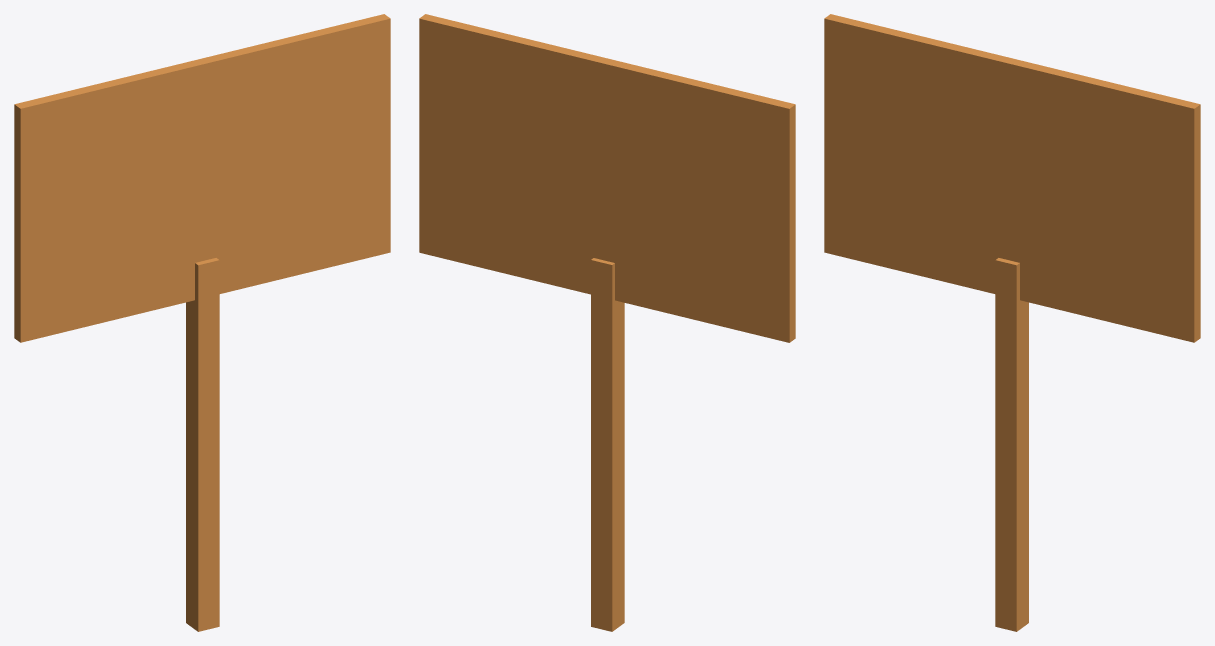
The model's file is signpost.fbx.
The picture shows the model from 3 angles, left to right: view 1: azimuth 30°, elevation 25°; view 2: azimuth 150°, elevation 25°; view 3: azimuth 330°, elevation 25°; orthographic projection.
Visible parts, largest first — view 1: Plane, Cube; view 2: Plane, Cube; view 3: Plane, Cube.
Part boxes in pixels (x1,y1,x2,y2): Plane: (14, 14, 390, 342); Cube: (186, 258, 219, 631); Plane: (419, 14, 795, 342); Cube: (591, 258, 624, 631); Plane: (824, 14, 1200, 342); Cube: (995, 258, 1028, 631).
Bounding box in the file's own units: 1985 × 2887 × 114.
